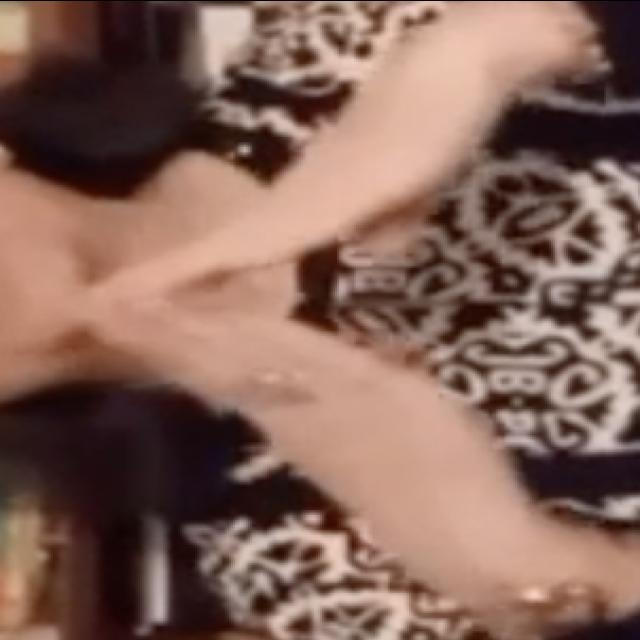casa: (55, 17, 582, 620)
